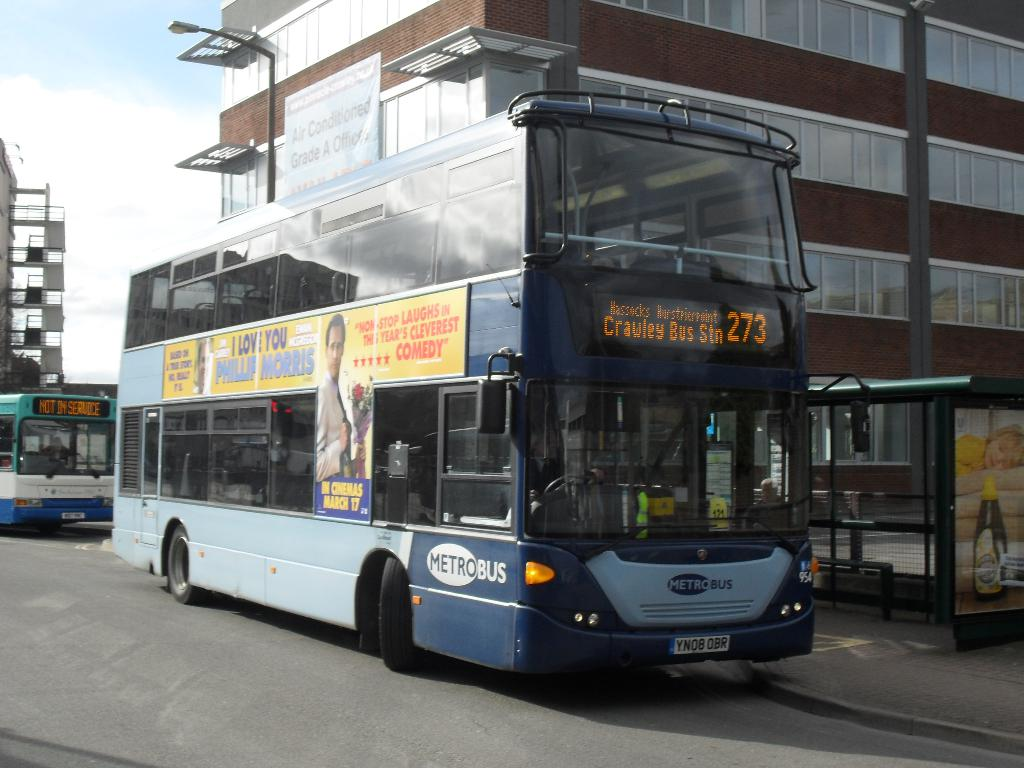Bus: (106, 94, 874, 679), (0, 394, 115, 533)
